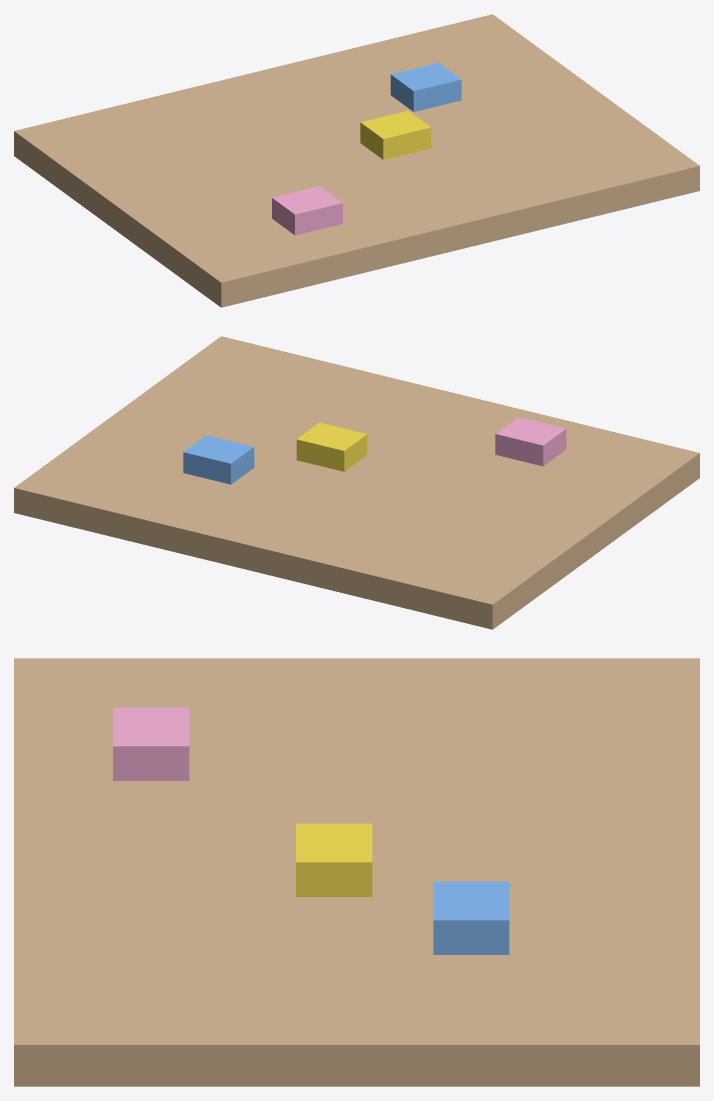
Rendered from pinboard.glb.
The picture shows the model from 3 angles, top to bottom: view 1: azimuth 30°, elevation 25°; view 2: azimuth 150°, elevation 25°; view 3: azimuth 270°, elevation 25°; orthographic projection. The views are drawn at different scales.
Visible parts, largest first — view 1: board_0, note_2, note_3, note_1; view 2: board_0, note_1, note_2, note_3; view 3: board_0, note_1, note_2, note_3.
Boxes of the visible parts, x1,y1,x2,y2 form: board_0: (14,14,699,307); note_2: (360,110,431,159); note_3: (390,63,461,111); note_1: (272,186,342,235); board_0: (14,336,699,629); note_1: (495,417,566,466); note_2: (296,422,367,471); note_3: (183,435,254,484); board_0: (14,658,699,1086); note_1: (113,707,189,780); note_2: (296,823,372,896); note_3: (433,881,509,954).
Size of the model in its own units: 1.2 by 0.11 by 0.9.
